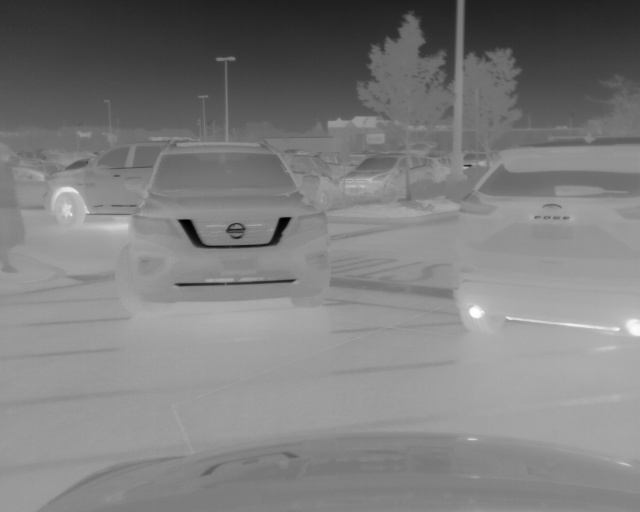car: (450, 136, 640, 343), (112, 138, 333, 313), (43, 138, 182, 225), (337, 150, 437, 201), (285, 154, 337, 213), (9, 162, 60, 210), (463, 151, 490, 174)
people: (1, 143, 29, 273)
